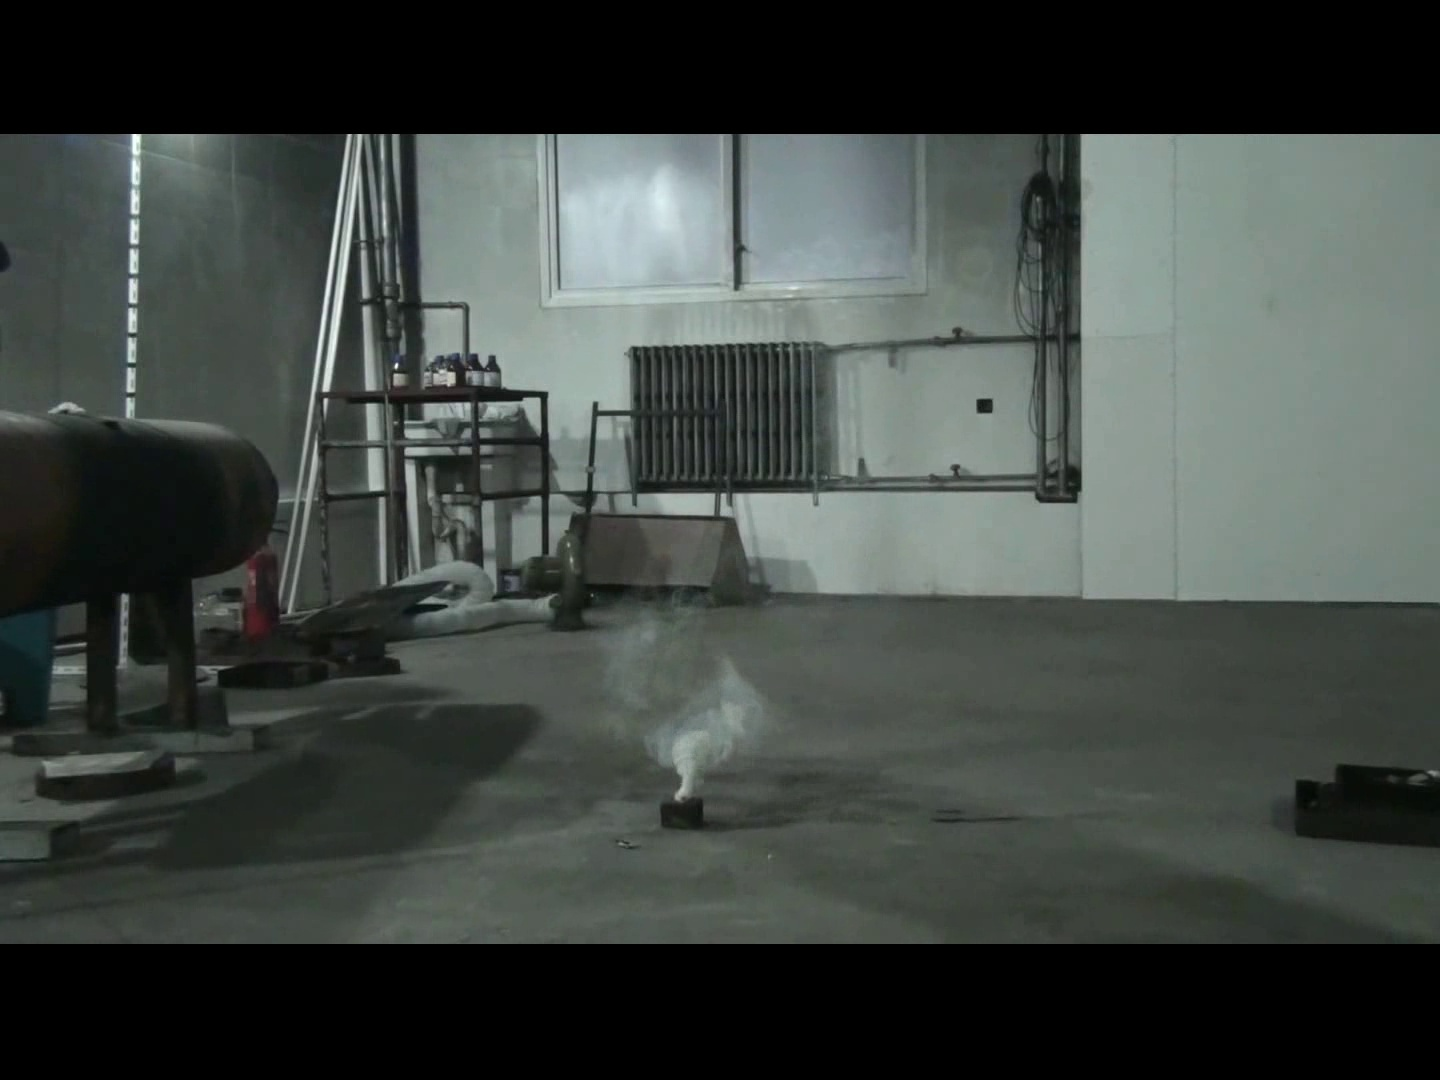smoke: (591, 565, 786, 796)
